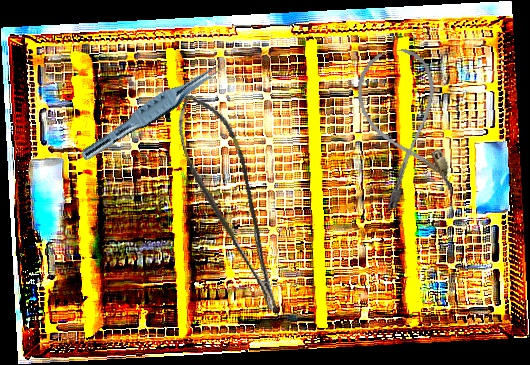Cannula: (350, 44, 458, 211)
Micro Scissor: (167, 83, 286, 325)
Tissue Forceps: (79, 53, 228, 170)
